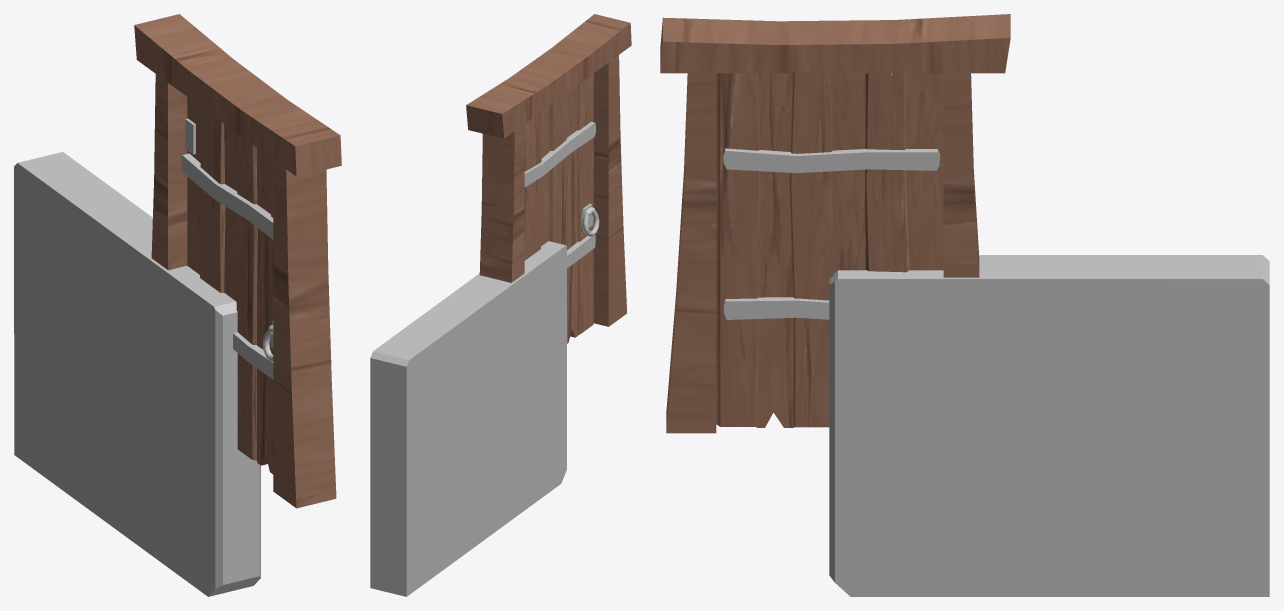
File: SM_door_03.fbx
3 renders of one model, left to right at view 1: azimuth 30°, elevation 25°; view 2: azimuth 150°, elevation 25°; view 3: azimuth 270°, elevation 25°, orthographic. The views are drawn at different scales.
Parts seen in each view (by area): view 1: SM_door_03_ConvexHulls, SM_door_03; view 2: SM_door_03_ConvexHulls, SM_door_03; view 3: SM_door_03_ConvexHulls, SM_door_03.
Boxes of the visible parts, box(x1,y1,x2,y2) form: SM_door_03_ConvexHulls: box(14, 152, 260, 596); SM_door_03: box(134, 14, 341, 508); SM_door_03_ConvexHulls: box(370, 241, 566, 596); SM_door_03: box(466, 14, 631, 343); SM_door_03_ConvexHulls: box(829, 255, 1269, 596); SM_door_03: box(660, 14, 1010, 433).
Bounding box in the file's own units: 35.67 × 382 × 387.
